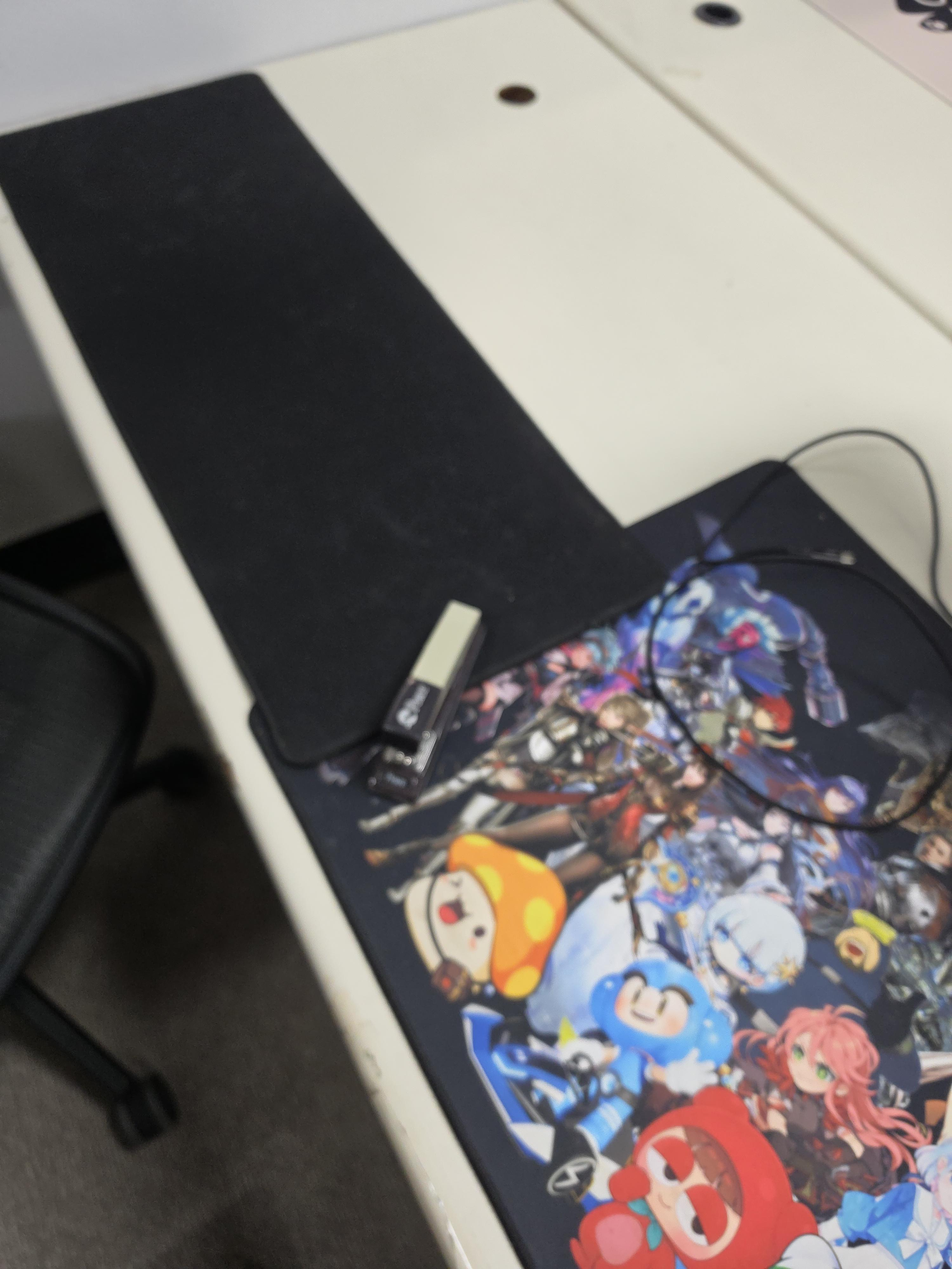stapler: (362, 599, 487, 802)
